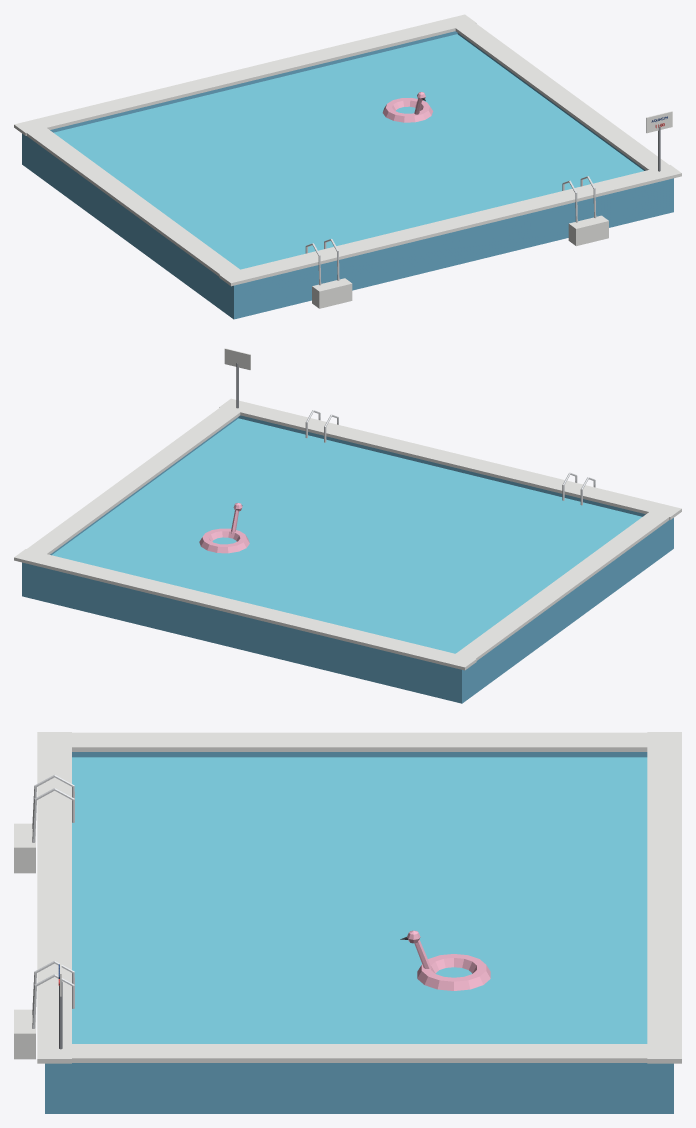
Rendered from CR_Piscina.fbx.
The picture shows the model from 3 angles, top to bottom: view 1: azimuth 30°, elevation 25°; view 2: azimuth 150°, elevation 25°; view 3: azimuth 270°, elevation 25°; orthographic projection. The views are drawn at different scales.
Visible parts, largest first — view 1: CR_Piscina; view 2: CR_Piscina; view 3: CR_Piscina.
Boxes of the visible parts, <box> form: CR_Piscina: <box>14,14,681,319</box>; CR_Piscina: <box>14,348,681,703</box>; CR_Piscina: <box>14,732,681,1113</box>.
Size of the model in its own units: 12.3 by 2.5 by 10.62.
